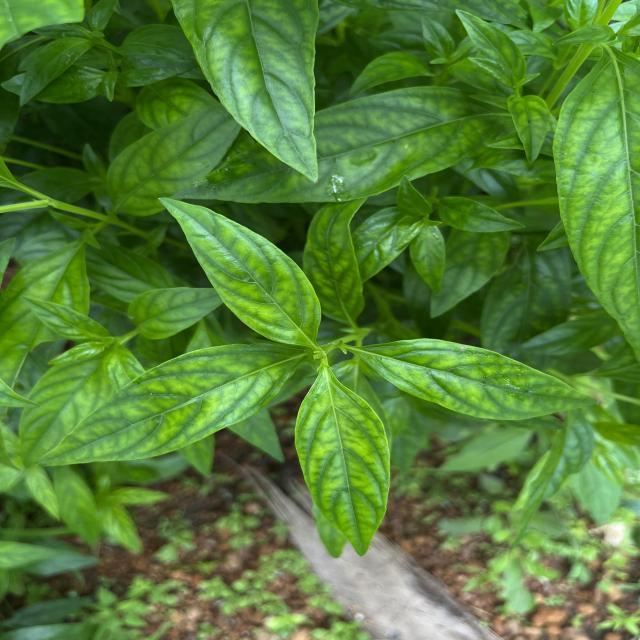Andrographis paniculata: (191, 82, 492, 208), (34, 343, 306, 468), (549, 48, 640, 363), (155, 192, 321, 350), (358, 334, 601, 424), (290, 370, 398, 560), (104, 106, 250, 210), (296, 197, 372, 326), (134, 284, 220, 334)
